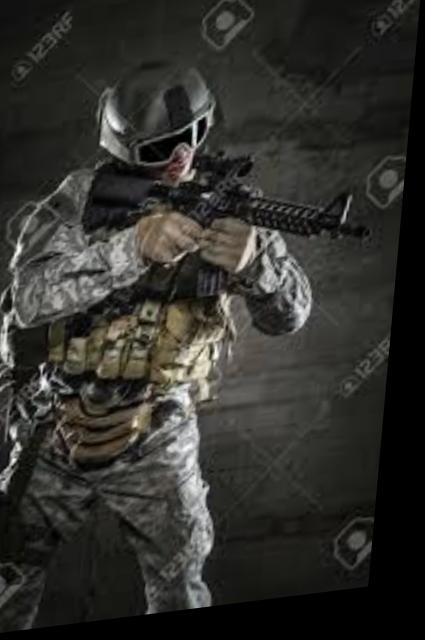other: (0, 59, 314, 635)
